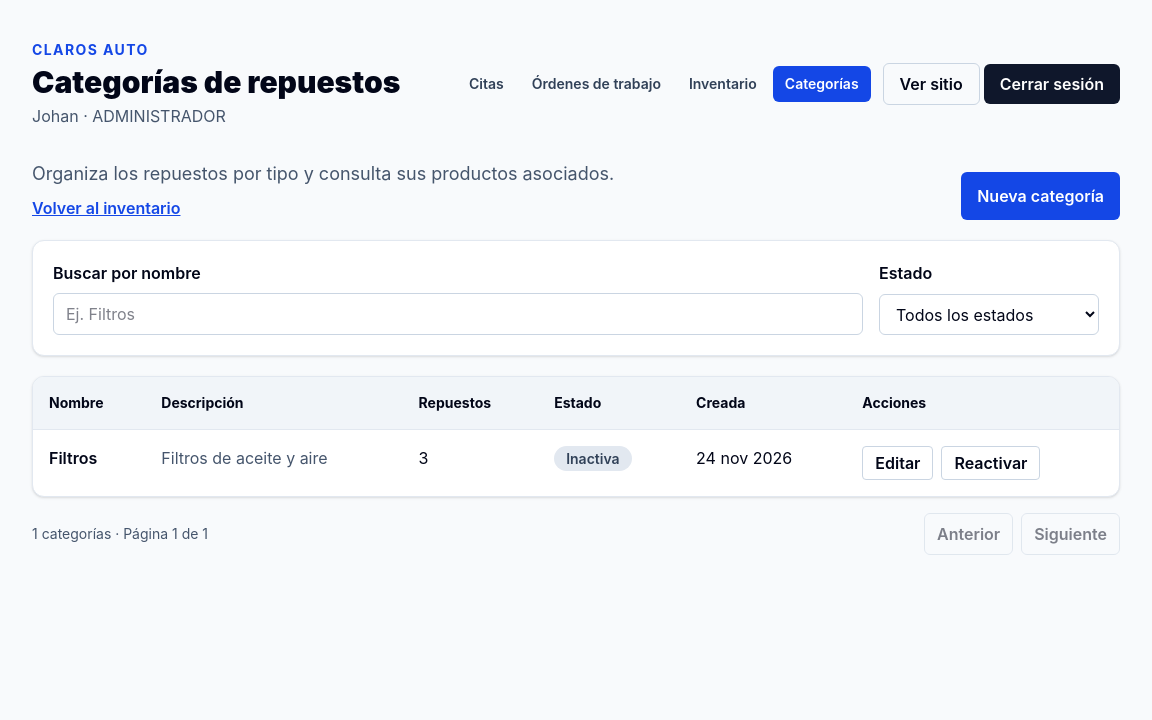
Test: página de categorías de repuestos › reactiva categorías inactivas tras confirmar
Click the button "Reactivar". click: (991, 463)
box: [942,446,1040,480]
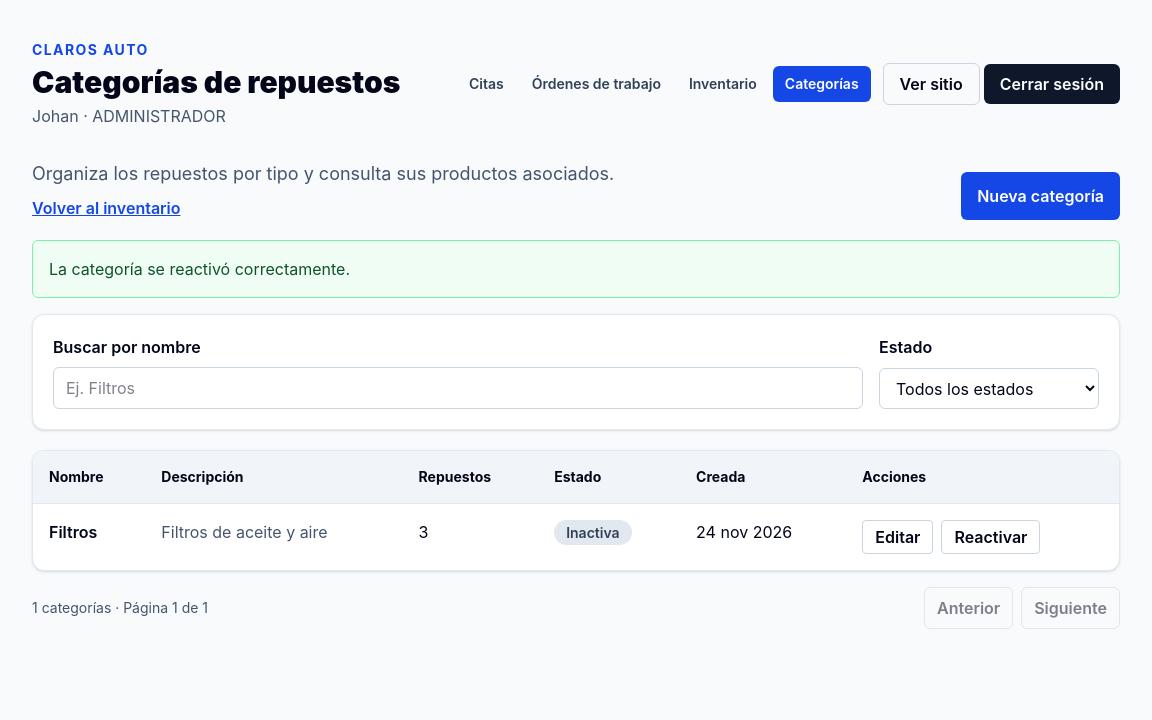
Now the text "La categoría se reactivó correctamente." is shown, box [32,240,1120,298]
